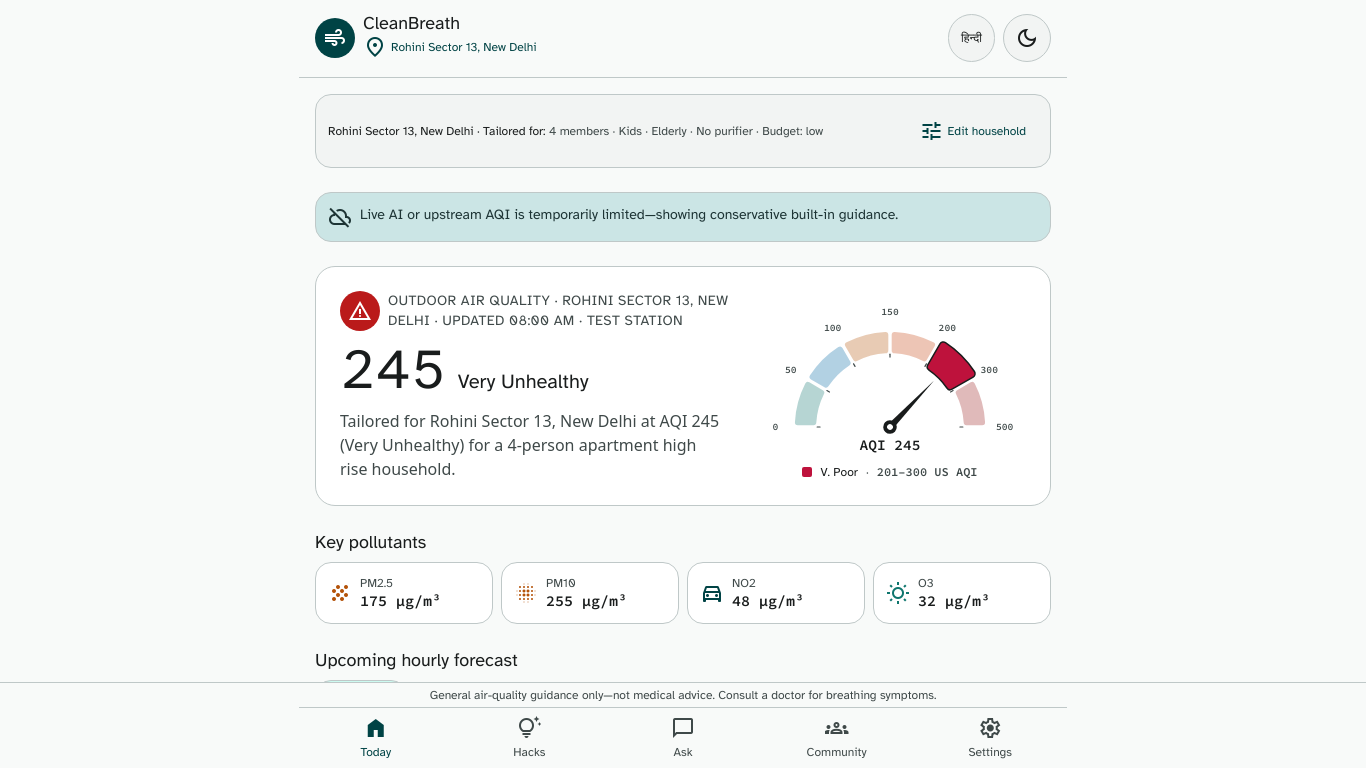
Test: Frontend behavioral tests (Onboarding, Dashboard states, Chat SSE/error, i18n, focus & landmarks) › switches language to Hindi, moves focus cleanly on route switch, and persists onboarding in App
Later steps or results of the test are not shown.
Note: Toggle language to Hindi
Click the button named "Switch language to Hindi". click: click(971, 38)
box: [948,14,995,62]
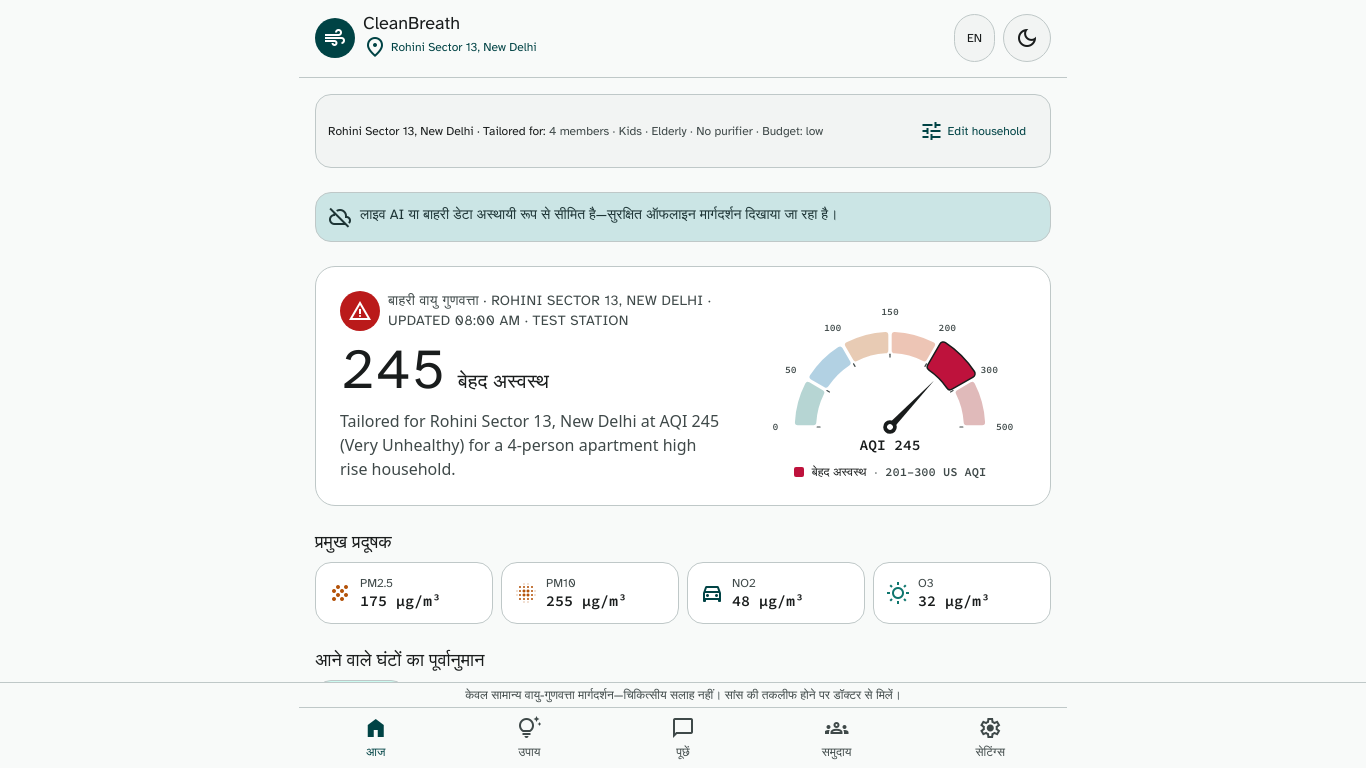
Expected: the button with aria-label "Switch language to English" is shown
Note: Switch back to English and navigate to Settings tab
Click the button with aria-label "Switch language to English". click: click(974, 38)
box: [954,14,995,62]
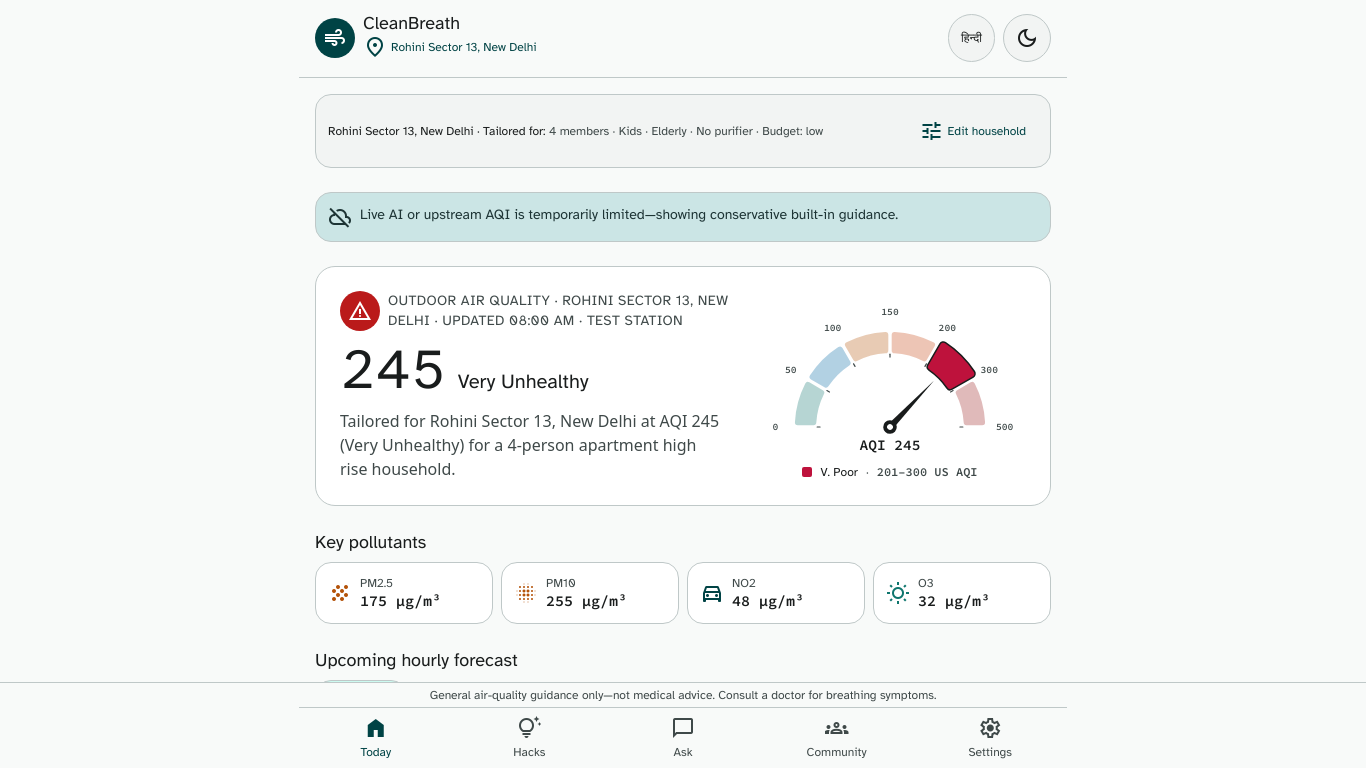
Click the button "Settings". click: click(990, 738)
box: [913,708,1067,767]
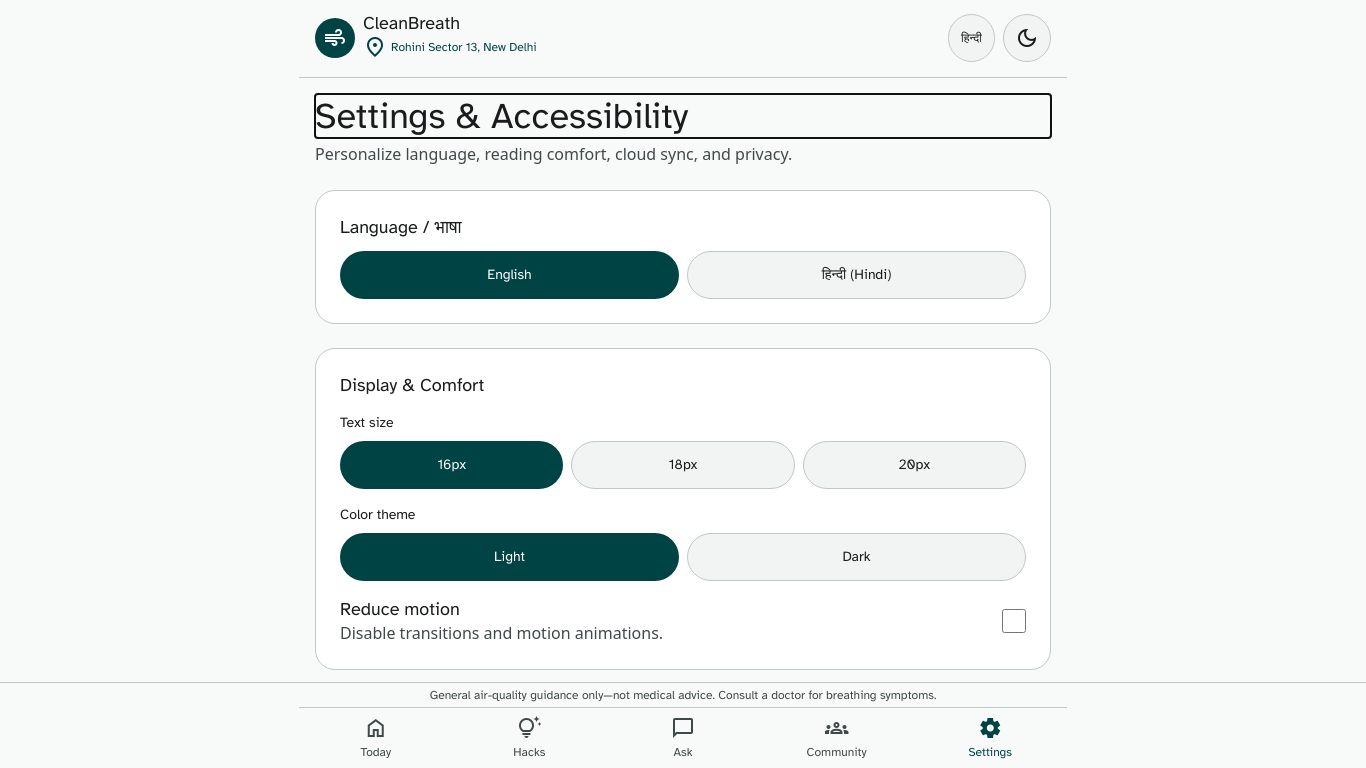
Expected: the heading "Settings & Accessibility" is shown, [315,94,688,138]
Note: Open onboarding via neighbourhood header button, change city, submit and verify localStorage persistence
Click the button with aria-label "Change neighbourhood". click: click(450, 46)
box: [363,34,536,58]
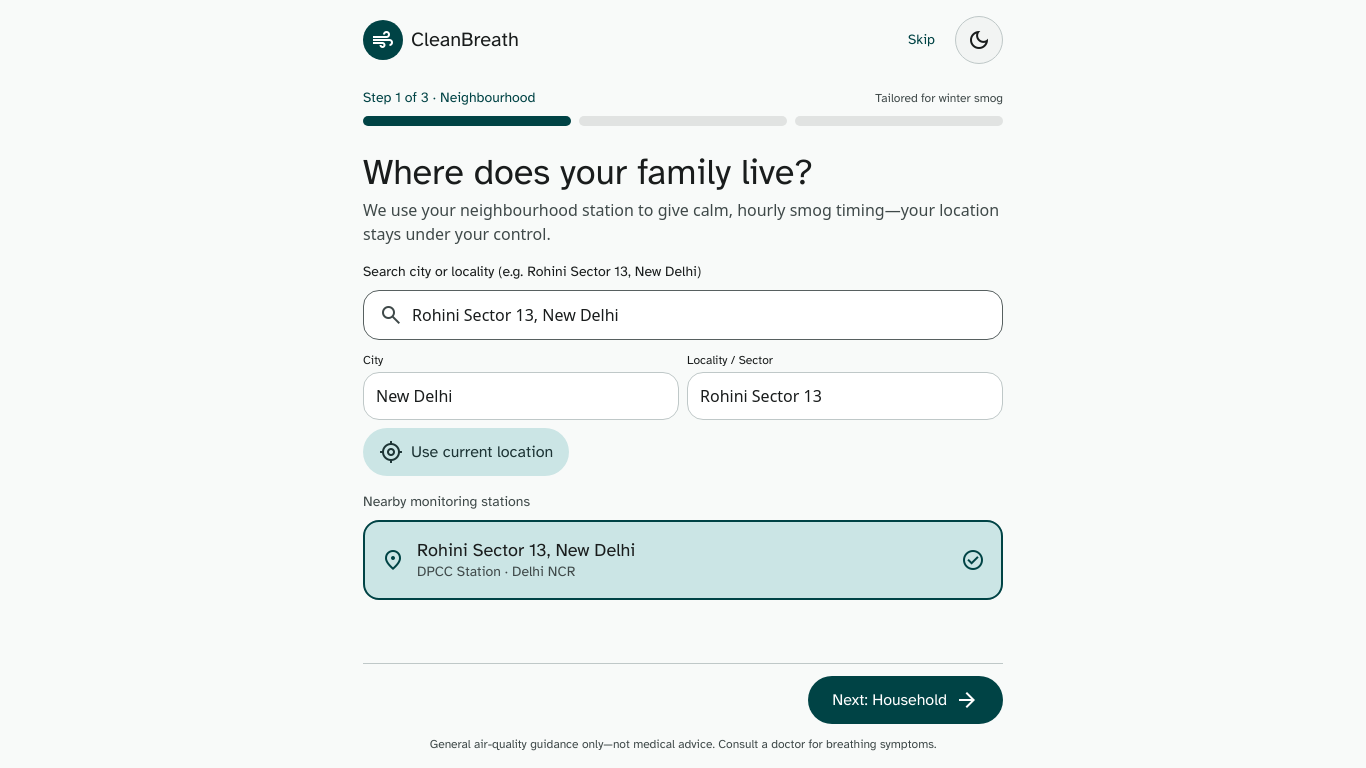
Expected: the field labelled "City" is shown, [363,372,679,420]
